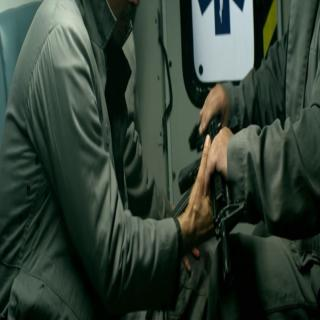gun: (192, 94, 240, 280)
